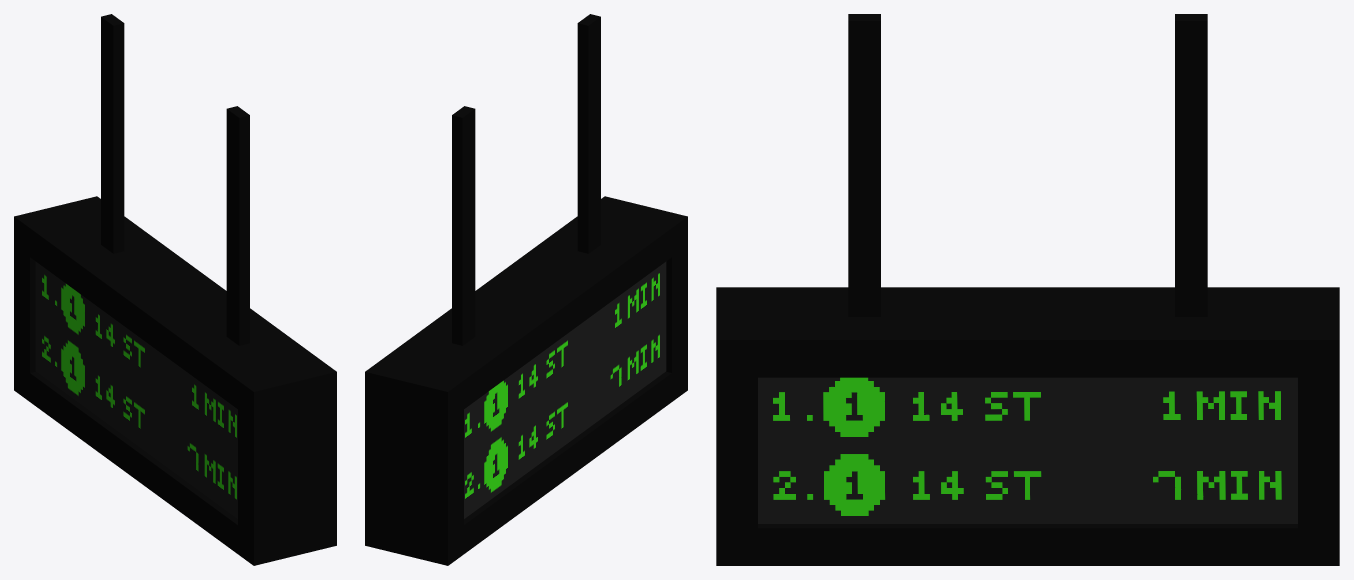
Rendered from train_schedule_sign.glb.
The picture shows the model from 3 angles, left to right: view 1: azimuth 30°, elevation 25°; view 2: azimuth 150°, elevation 25°; view 3: azimuth 270°, elevation 25°; orthographic projection. The views are drawn at different scales.
Parts seen in each view (by area): view 1: Back Screen, Top, Right, Bottom, Right Rail, Left Rail, Left; view 2: Back Screen, Top, Left, Bottom, Left Rail, Right Rail, Right; view 3: Front Screen, Top, Bottom, Left, Right, Left Rail, Right Rail.
Part boxes in pixels (x1=…): Back Screen: x1=35, y1=261, x2=237, y2=518; Top: x1=30, y1=211, x2=320, y2=408; Right: x1=238, y1=360, x2=336, y2=565; Bottom: x1=30, y1=371, x2=237, y2=553; Right Rail: x1=226, y1=106, x2=249, y2=345; Left Rail: x1=101, y1=14, x2=124, y2=253; Left: x1=14, y1=196, x2=100, y2=401; Back Screen: x1=464, y1=261, x2=666, y2=518; Top: x1=381, y1=211, x2=671, y2=408; Left: x1=365, y1=360, x2=463, y2=565; Bottom: x1=464, y1=371, x2=671, y2=553; Left Rail: x1=452, y1=106, x2=475, y2=345; Right Rail: x1=577, y1=14, x2=600, y2=253; Right: x1=601, y1=196, x2=687, y2=401; Front Screen: x1=758, y1=377, x2=1297, y2=523; Top: x1=758, y1=287, x2=1297, y2=377; Bottom: x1=758, y1=524, x2=1297, y2=565; Left: x1=1298, y1=287, x2=1339, y2=565; Right: x1=716, y1=287, x2=757, y2=565; Left Rail: x1=1175, y1=14, x2=1207, y2=316; Right Rail: x1=848, y1=14, x2=880, y2=316.
Size of the model in its own units: 0.3814 by 1.76 by 1.91.
Materials: 10 (2 with a texture image).
